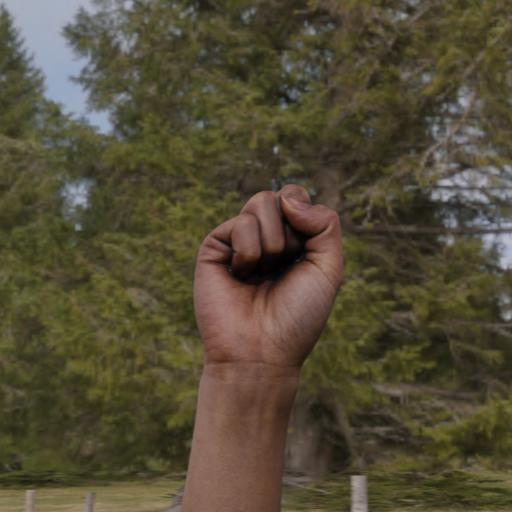S: (179, 165, 360, 438)
